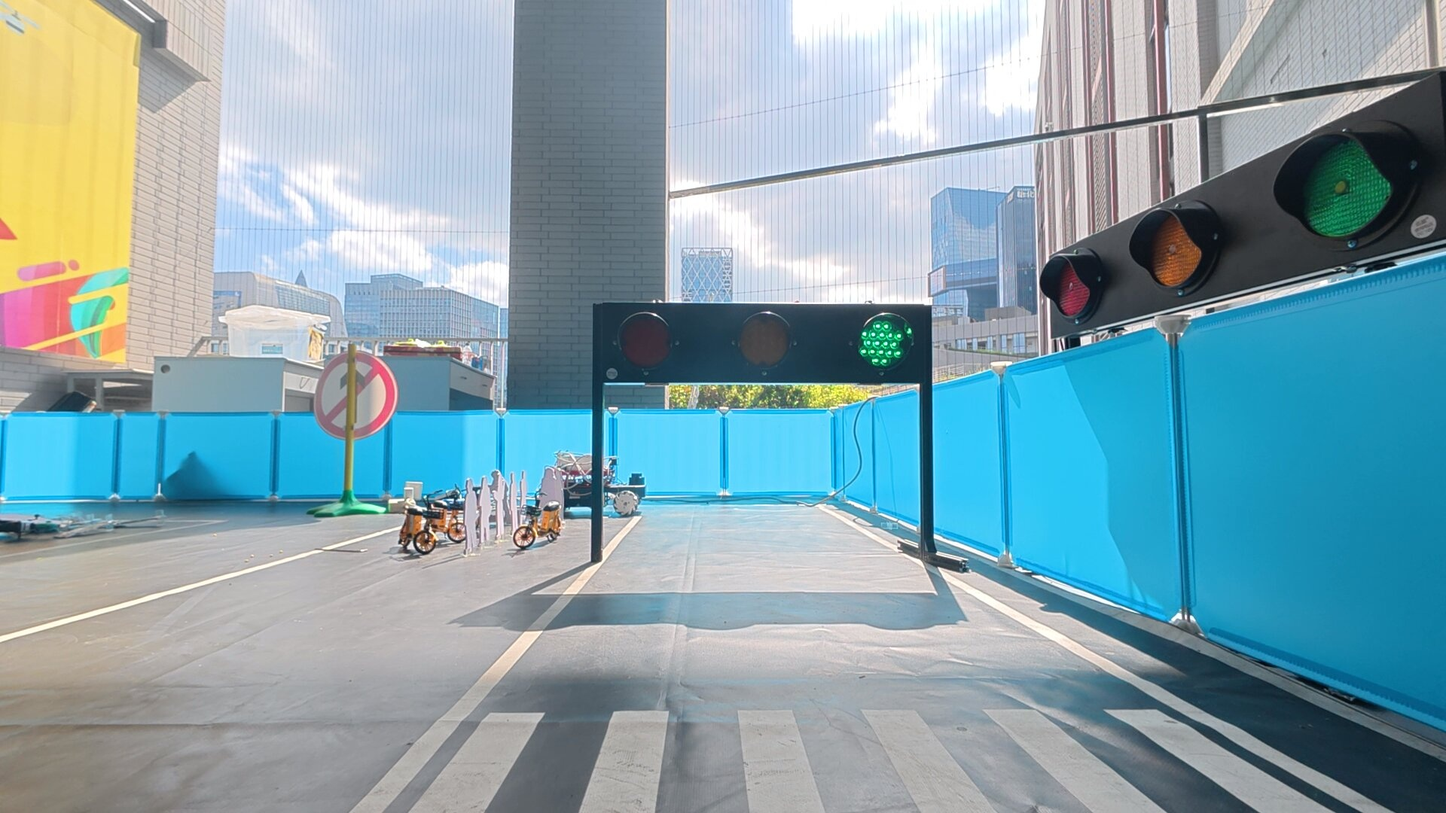go: (857, 314, 913, 374)
